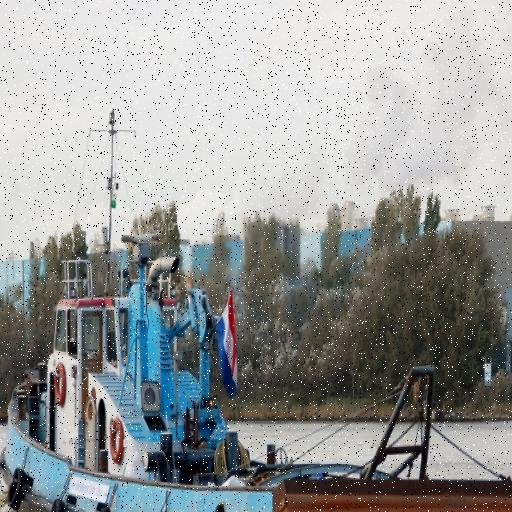tugboat: (1, 227, 295, 512)
